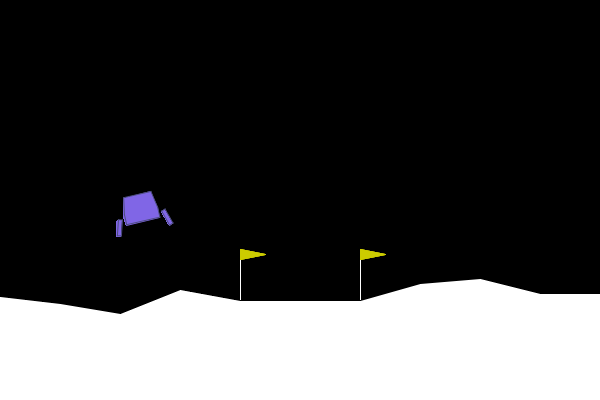lander: (107, 186, 174, 239)
